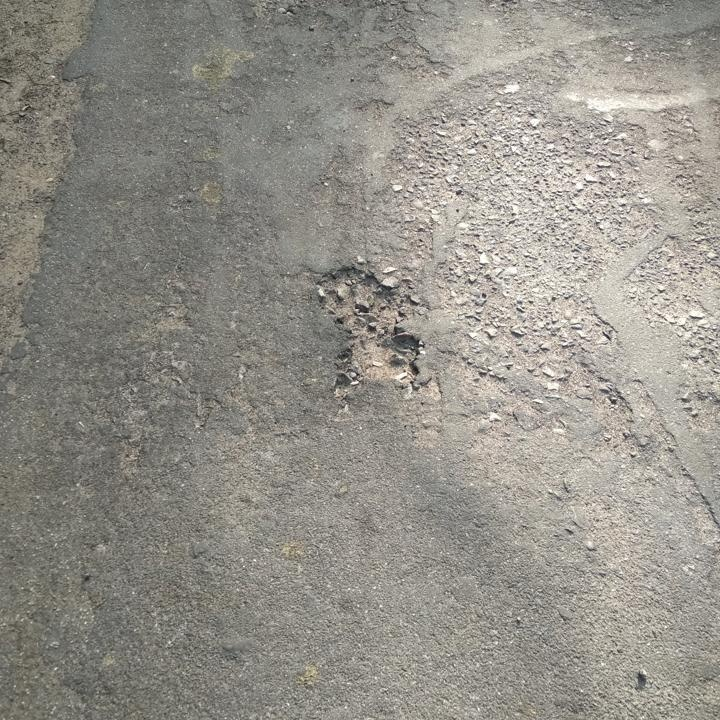pothole: (319, 260, 430, 390)
